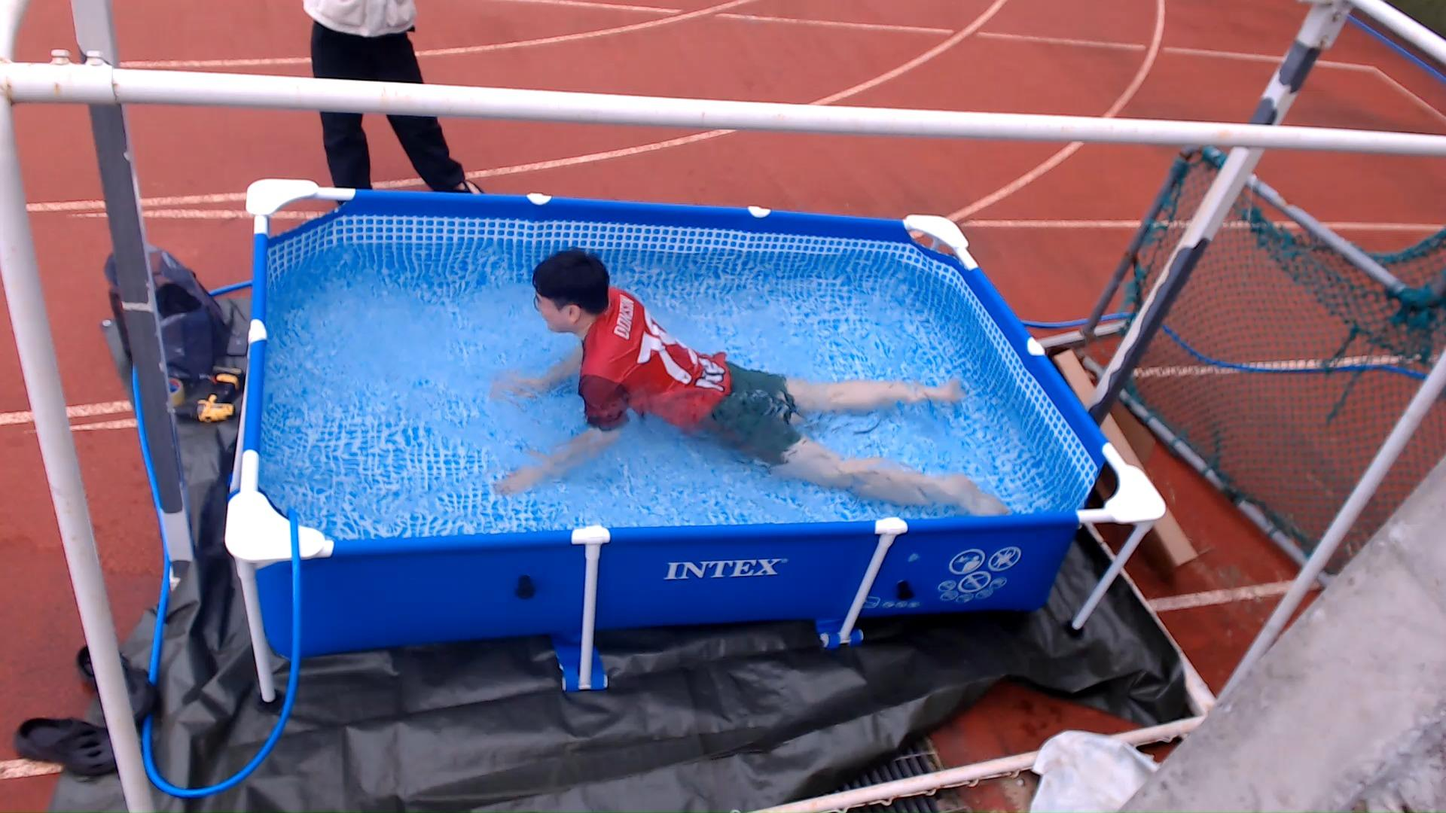Person-out-of-water: (253, 0, 541, 184)
Swimming: (505, 246, 1012, 520)
